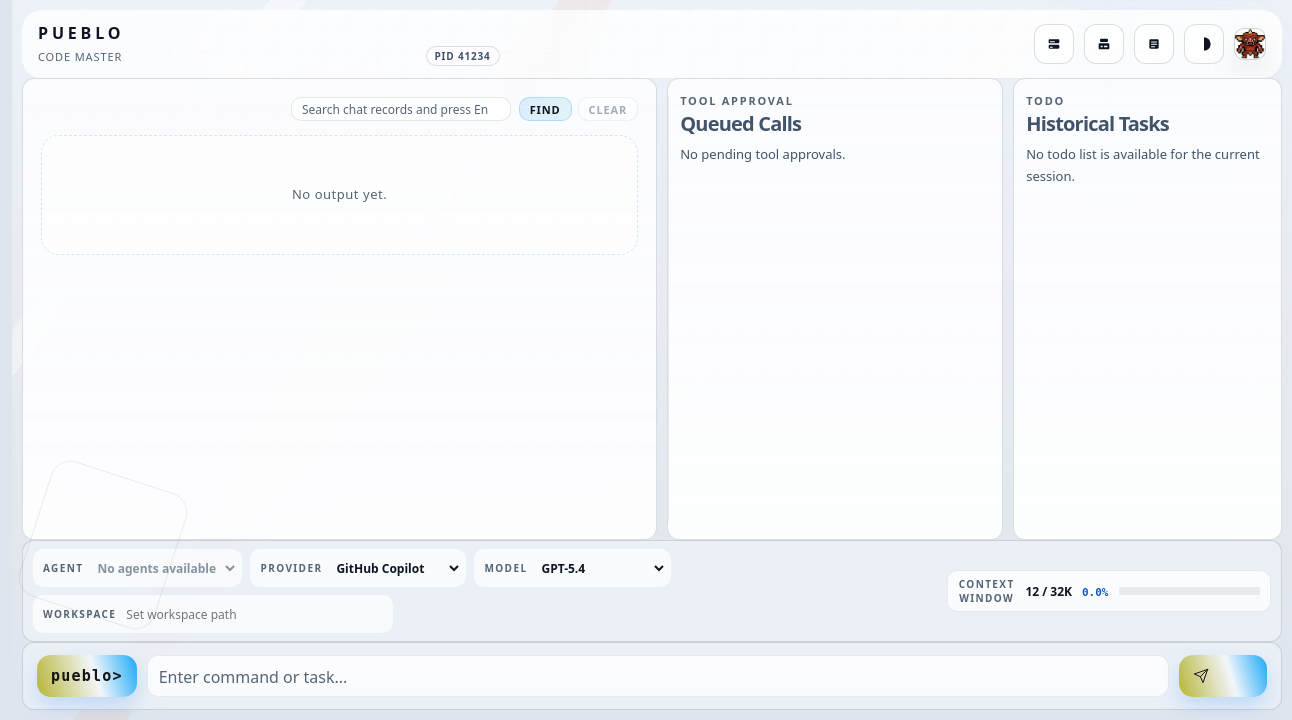
Scenario: Desktop Renderer › toggles the session sidebar from the toolbar without affecting the other sidebars
The image size is (1292, 720).
Expected: the element named "workspace-tool-approval-sidebar" is shown, [667,78,1003,540]
Expected: the element named "workspace-todo-sidebar" is shown, [1013,78,1282,540]
Click the button named "Show session sidebar" at (1054, 44), box [1034,24,1074,64]
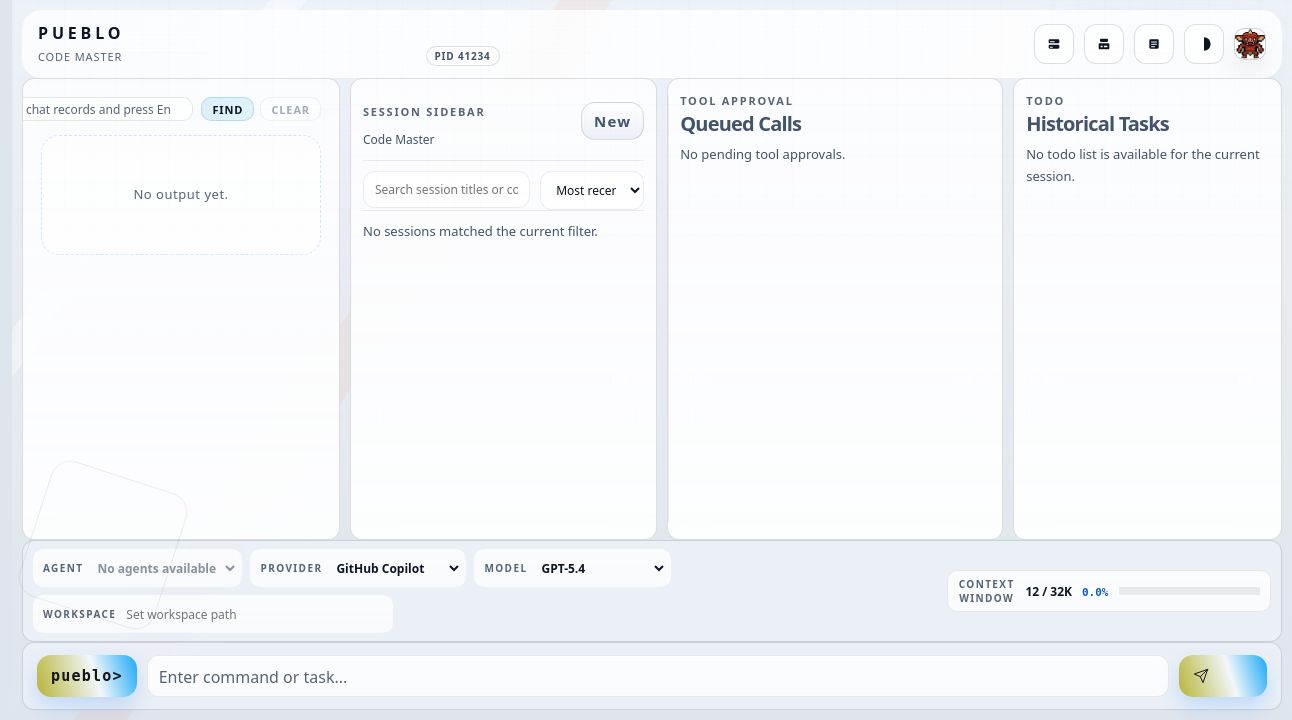
Expected: the element named "workspace-session-sidebar" is shown, [350,78,657,540]
Click the button named "Hide session sidebar" at (1054, 44), box [1034,24,1074,64]
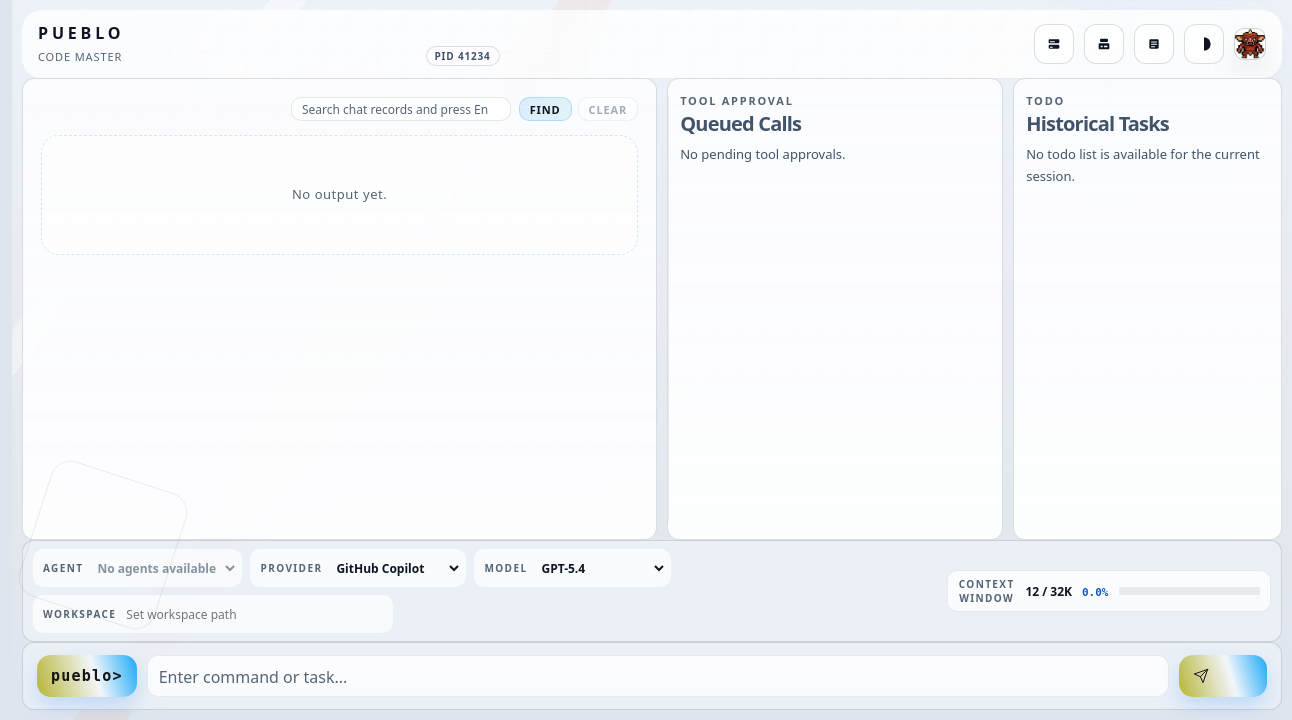
Expected: the element named "workspace-tool-approval-sidebar" is shown, [667,78,1003,540]
Expected: the field labelled "workspace-session-sidebar" is gone
